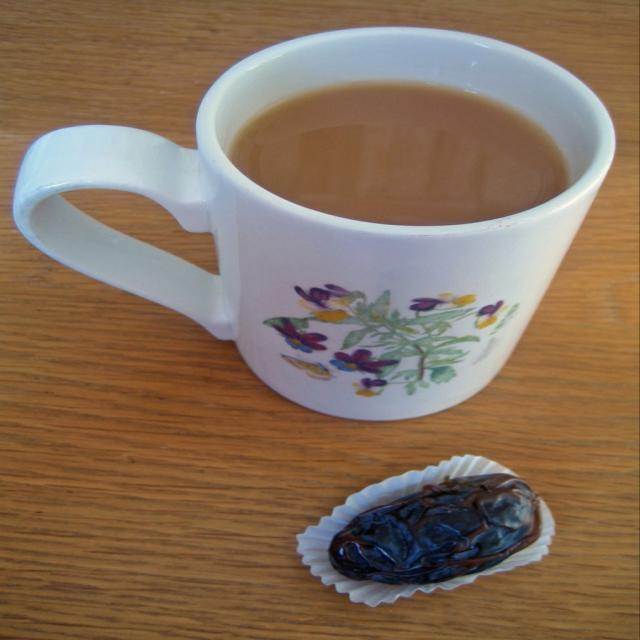Tea: (234, 76, 569, 222)
